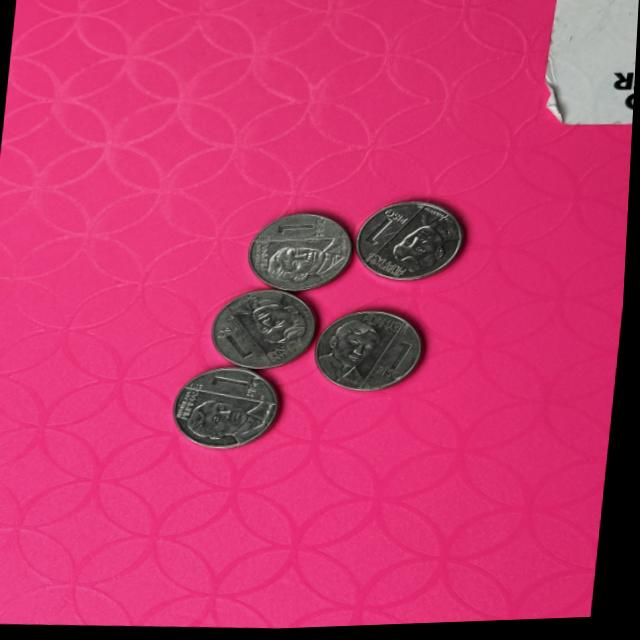1_New_Front: (215, 322, 271, 376), (377, 339, 427, 386), (208, 372, 275, 404), (270, 211, 326, 244), (368, 206, 404, 249)
